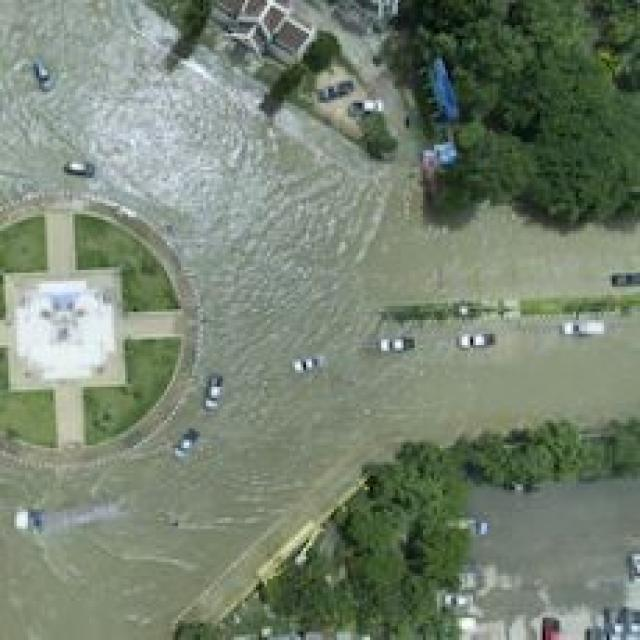flooded_areas: (0, 0, 637, 576), (409, 448, 634, 637)
